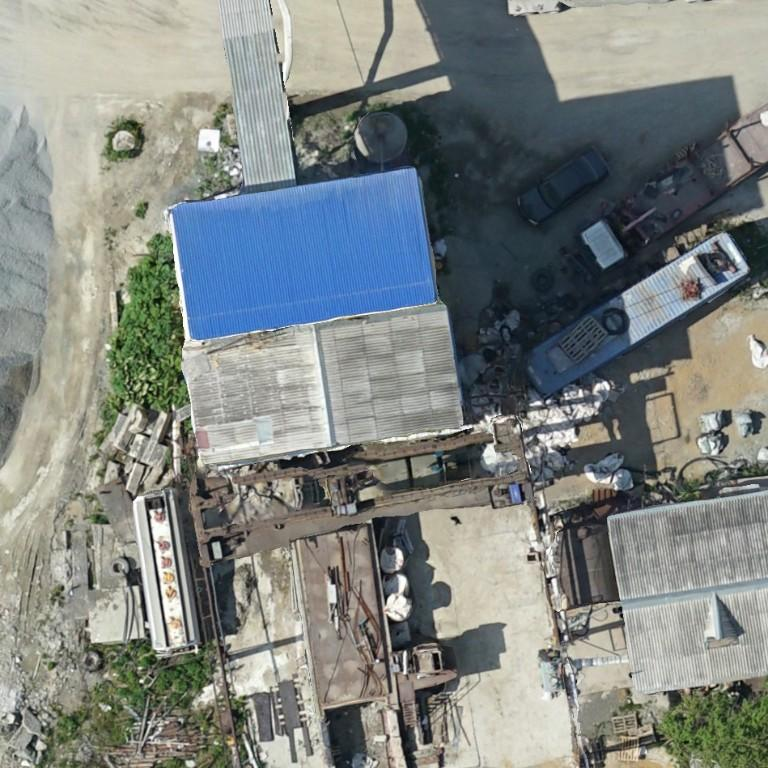hogweed: (96, 234, 189, 441), (154, 661, 208, 692)
